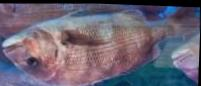fish: (2, 5, 200, 86)
